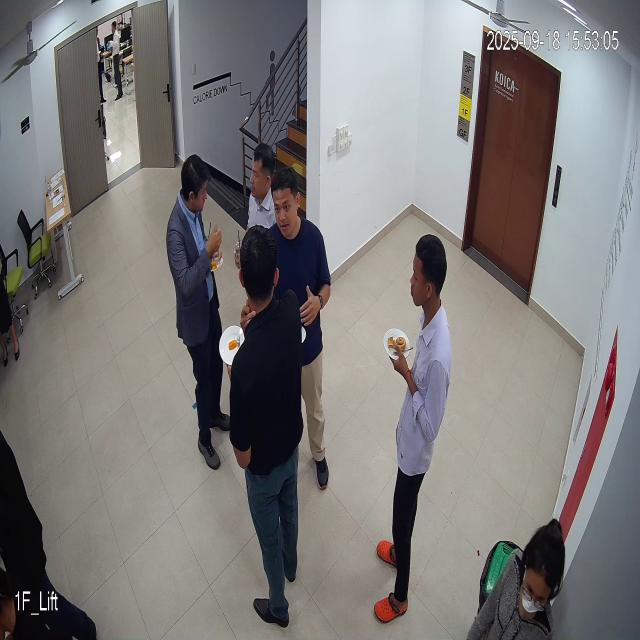face: (271, 163, 303, 242), (248, 139, 272, 206)
